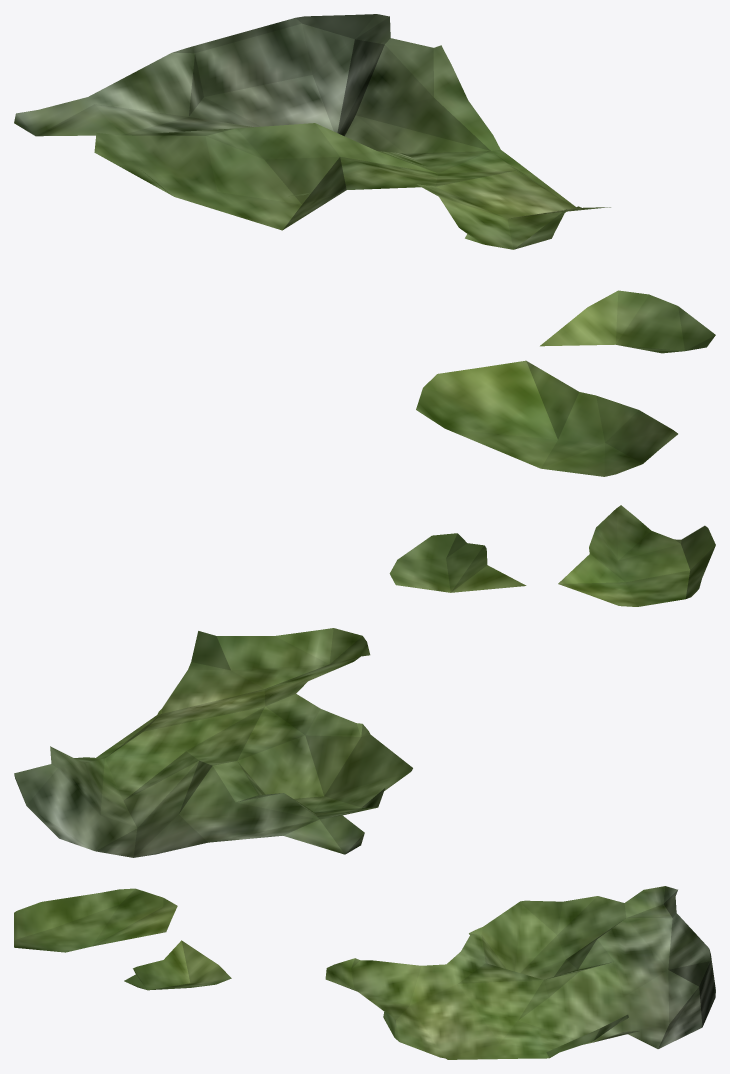
3 renders of one model, top to bottom at view 1: azimuth 30°, elevation 25°; view 2: azimuth 150°, elevation 25°; view 3: azimuth 270°, elevation 25°, orthographic. The views are drawn at different scales.
Size of the model in its own units: 1.67 by 0.3531 by 3.78.
Materials: 1 (1 with a texture image).
